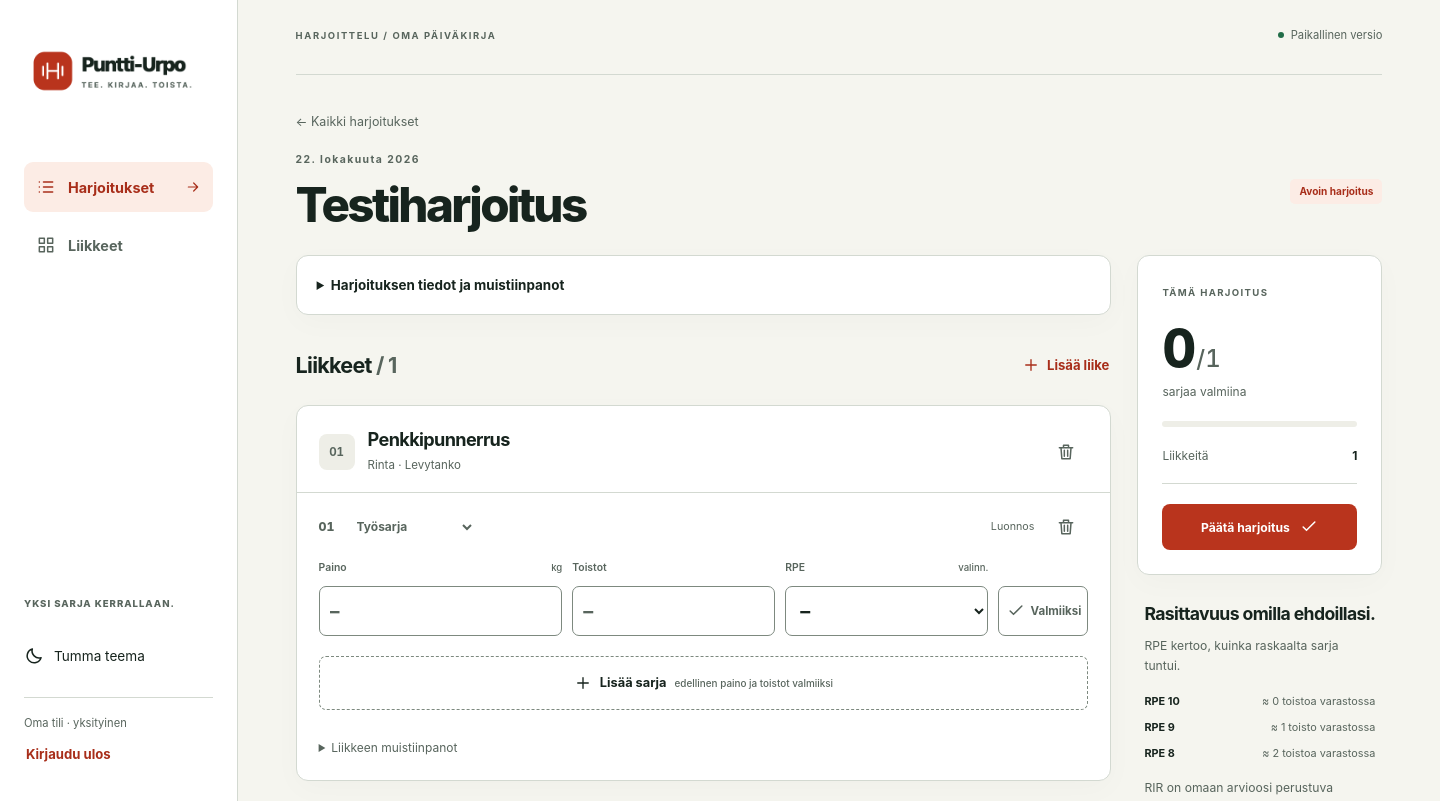
Test: keeps unsaved set input through expiry and reauthentication as the same account
The image size is (1440, 801).
Expected: the heading "Penkkipunnerrus" is shown, [368,428,510,452]
Type "72,5" into the field labelled "Paino kg". click: (440, 611)
box: [319,586,562,636]
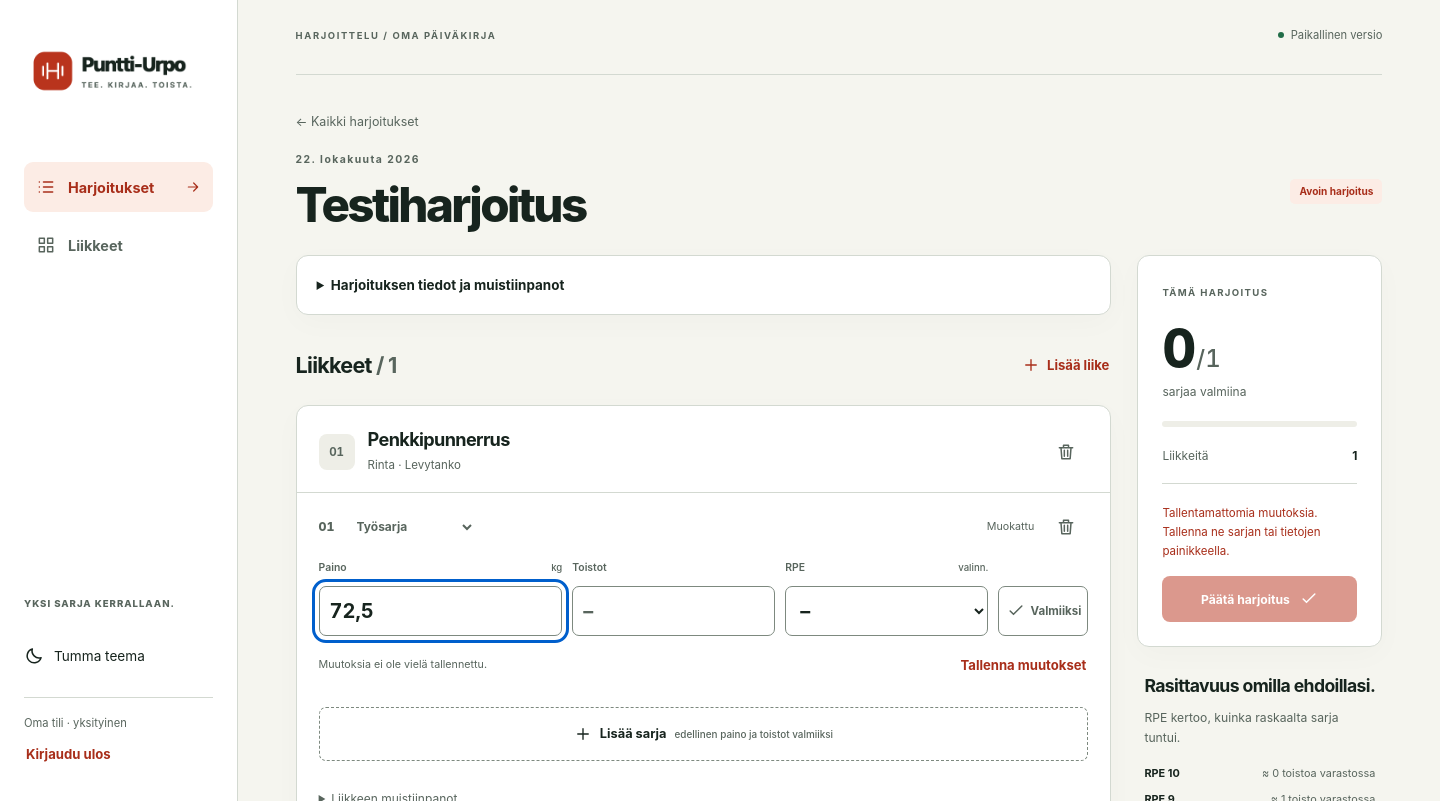
Click the button "Tallenna muutokset". click: (1023, 665)
box: [958,643,1088,687]
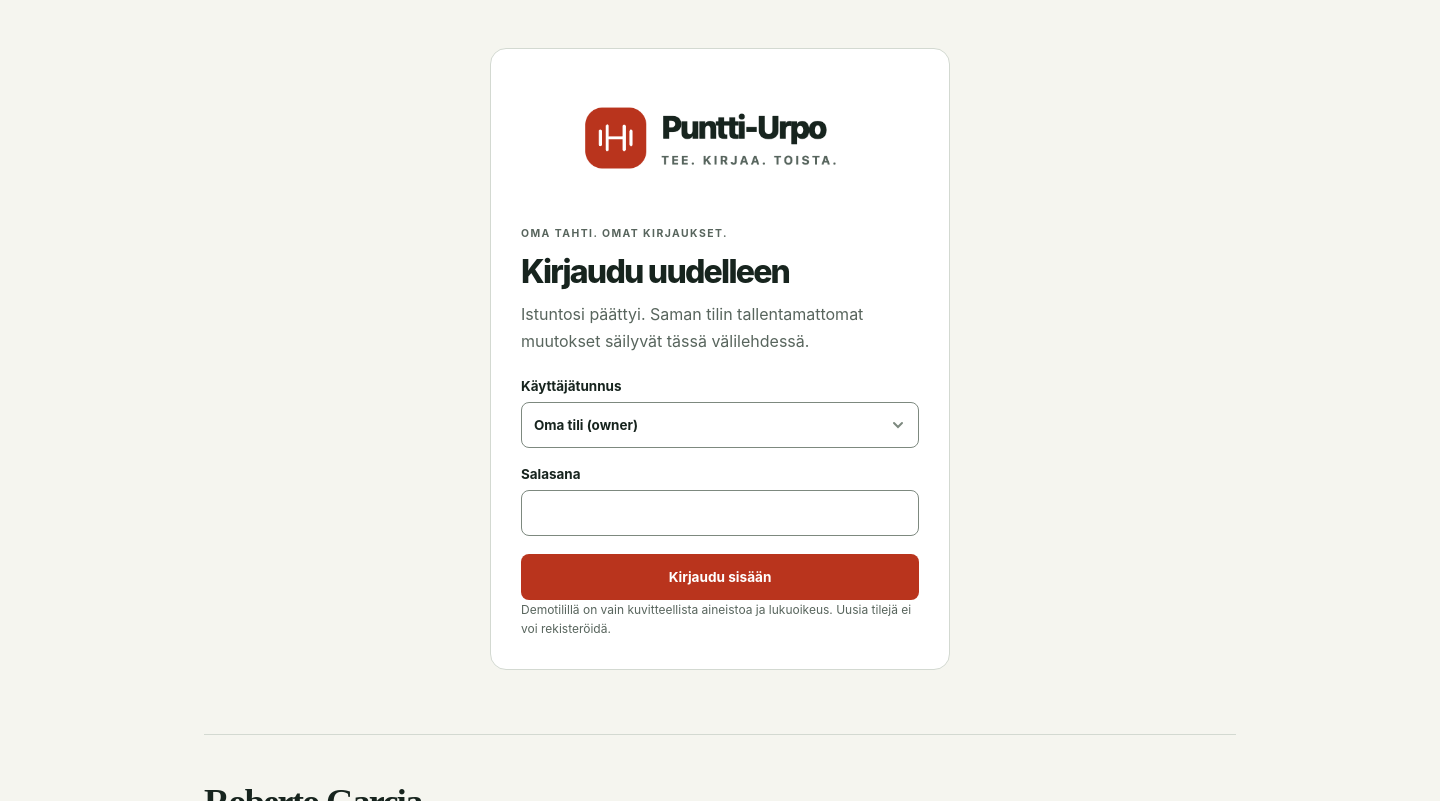
Expected: the heading "Kirjaudu uudelleen" is shown, [521,252,789,291]
Type "not-a-real-password" into the password field labelled "Salasana". click: (720, 513)
box: [521,490,919,536]
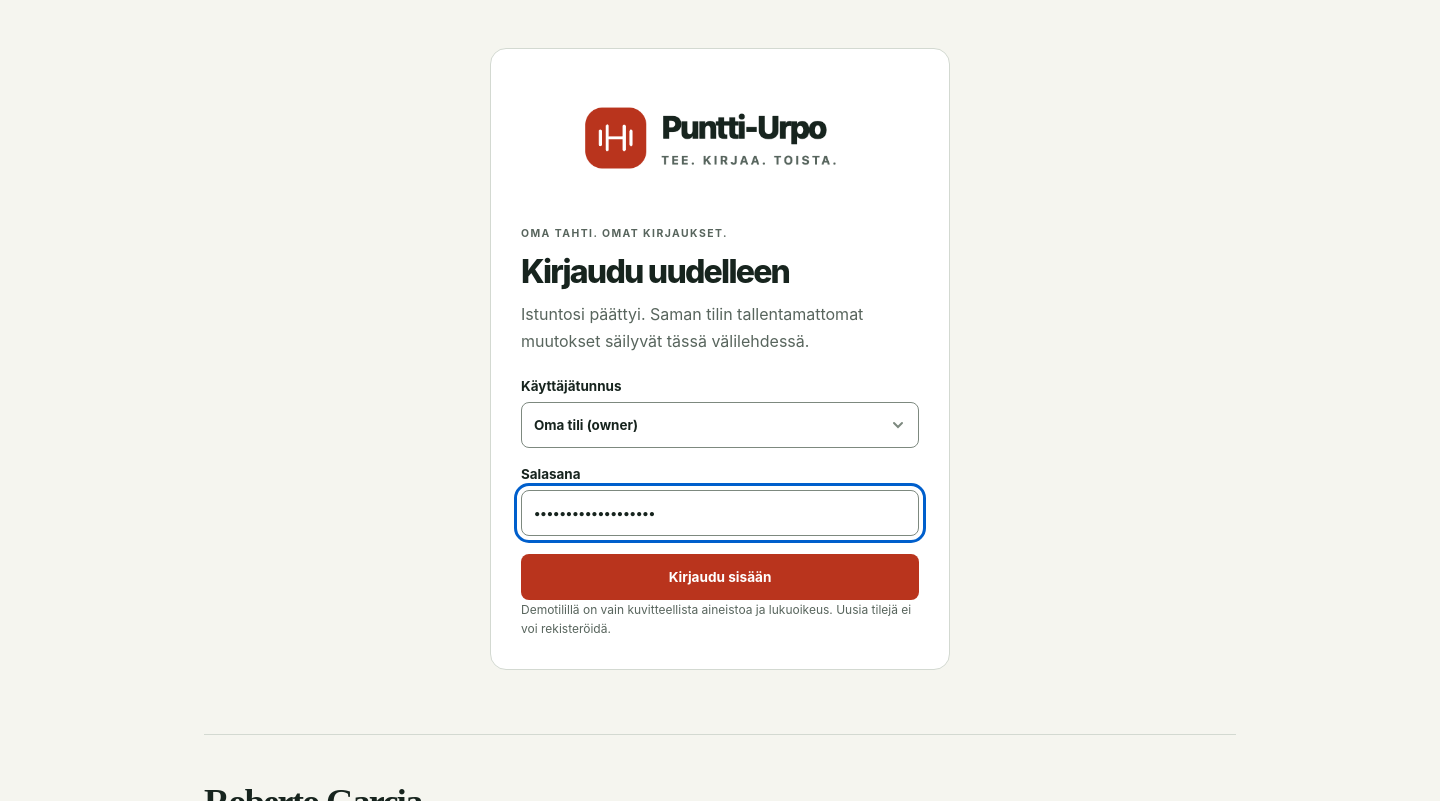
Click the button "Kirjaudu sisään". click: (720, 577)
box: [521,554,919,600]
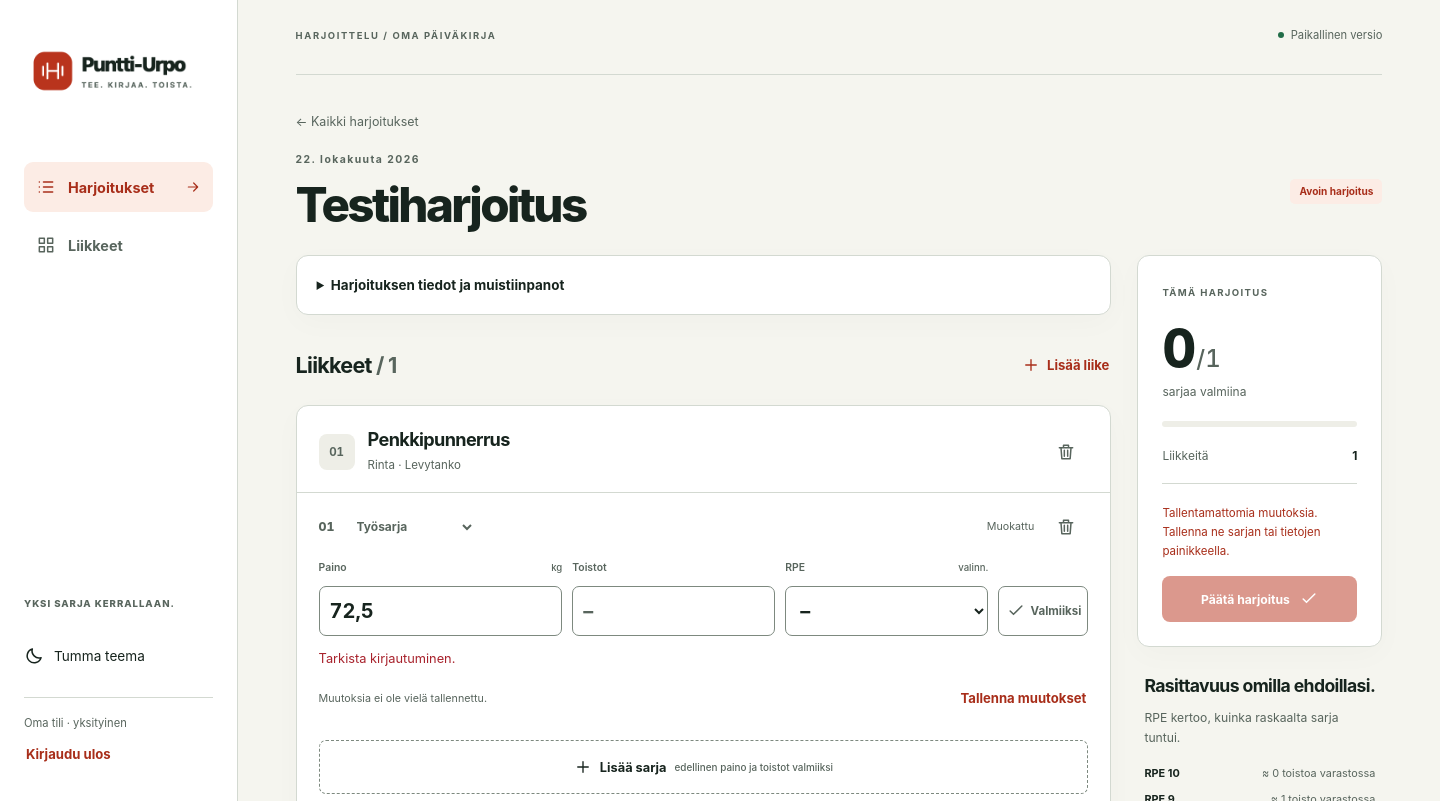
Expected: the heading "Kirjaudu uudelleen" is gone
